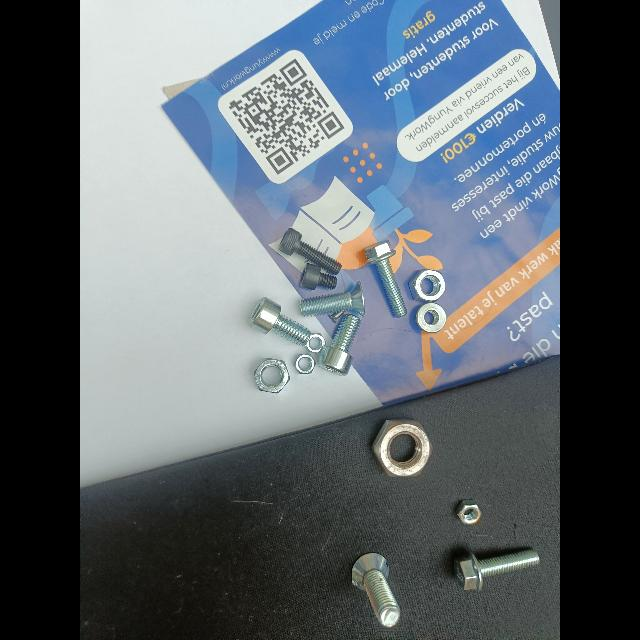bolt: (454, 548, 540, 590), (352, 553, 400, 628), (365, 241, 407, 317), (250, 297, 311, 346), (279, 228, 341, 276), (318, 311, 361, 375), (300, 281, 365, 320), (299, 262, 337, 290)
nuts: (373, 420, 432, 476), (408, 269, 446, 303), (254, 358, 290, 393), (416, 303, 446, 333), (294, 350, 322, 374), (455, 500, 481, 525), (305, 333, 326, 356)
